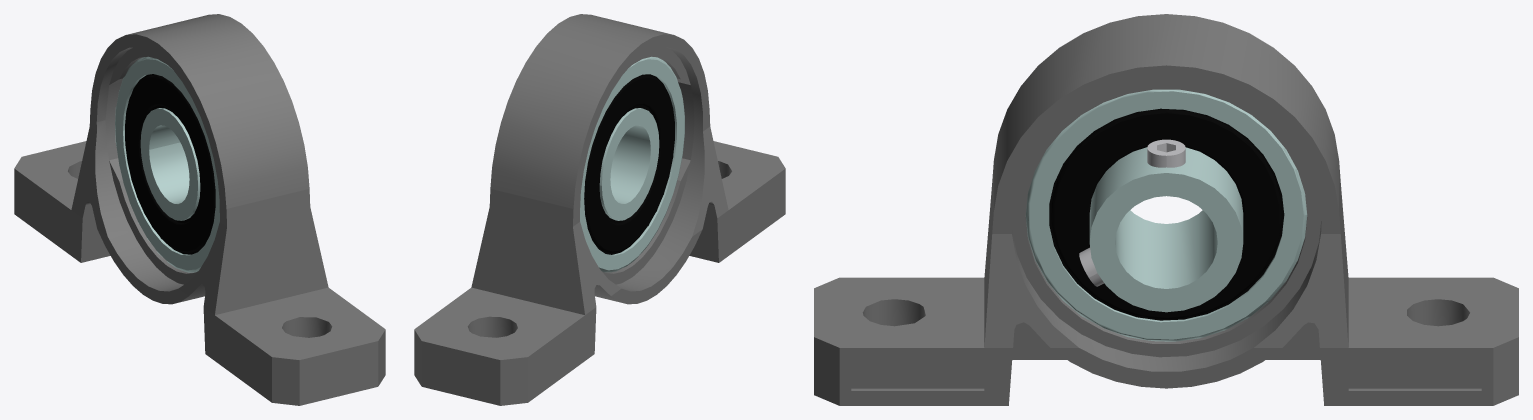
The picture shows the model from 3 angles, left to right: view 1: azimuth 30°, elevation 25°; view 2: azimuth 150°, elevation 25°; view 3: azimuth 270°, elevation 25°; orthographic projection. The views are drawn at different scales.
Visible parts, largest first — view 1: 0.16666666666666666_0.16666666666666666_0.16666666666666666_, 0.4166666666666667_0.5833333333333334_0.5833333333333334_0, 0_0_0_0; view 2: 0.16666666666666666_0.16666666666666666_0.16666666666666666_, 0.4166666666666667_0.5833333333333334_0.5833333333333334_0, 0_0_0_0; view 3: 0.16666666666666666_0.16666666666666666_0.16666666666666666_, 0.4166666666666667_0.5833333333333334_0.5833333333333334_0, 0_0_0_0, 0.5833333333333334_0.5833333333333334_0.5833333333333334_0.8.
Part boxes in pixels (box(x1,y1,x2,y2)): 0.16666666666666666_0.16666666666666666_0.16666666666666666_: box(14, 14, 385, 405); 0.4166666666666667_0.5833333333333334_0.5833333333333334_0: box(115, 56, 219, 272); 0_0_0_0: box(125, 74, 215, 254); 0.16666666666666666_0.16666666666666666_0.16666666666666666_: box(414, 14, 785, 405); 0.4166666666666667_0.5833333333333334_0.5833333333333334_0: box(580, 56, 684, 272); 0_0_0_0: box(584, 74, 674, 254); 0.16666666666666666_0.16666666666666666_0.16666666666666666_: box(814, 14, 1518, 405); 0.4166666666666667_0.5833333333333334_0.5833333333333334_0: box(1025, 89, 1307, 341); 0_0_0_0: box(1049, 108, 1284, 320); 0.5833333333333334_0.5833333333333334_0.5833333333333334_0.8: box(1079, 139, 1185, 286).
Bounding box in the file's own units: 1.5 × 2.85 × 5.5.
